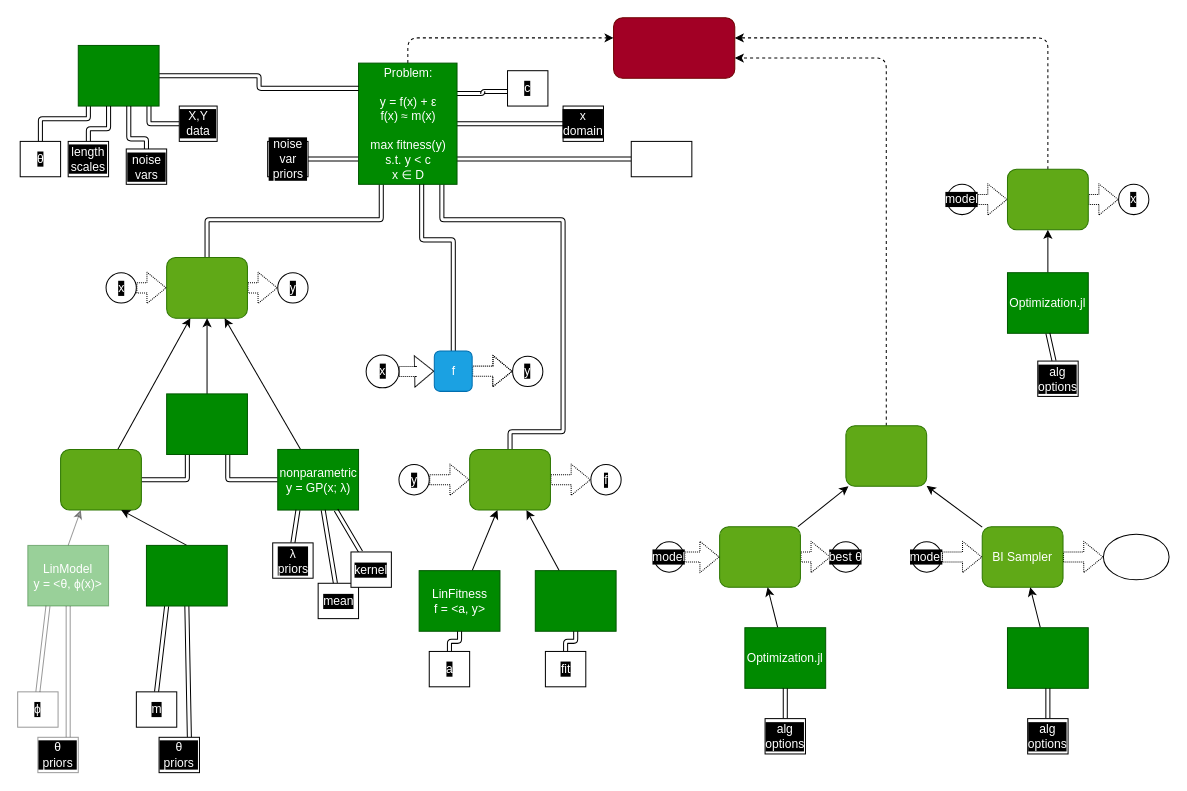
The diagram is 1187 pixels wide and 791 high, and some of its shapes have lost their labels. Here are the shapes that lost their labels. From the top down, the centre of each, then its label:
At (x=674, y=47): "BOSS".
At (x=118, y=75): "data".
At (x=661, y=158): "discrete dims".
At (x=1047, y=199): "EI maximizer".
At (x=206, y=287): "surrogate model".
At (x=206, y=423): "semiparametric".
At (x=886, y=455): "model fitter".
At (x=100, y=479): "parametric y = m(x; θ)".
At (x=509, y=479): "fitness".
At (x=186, y=575): "NonlinModel y = m(x; θ)".
At (x=759, y=556): "MLE".
At (x=1135, y=556): "θ samples".
At (x=575, y=600): "NonlinFitness f = fit(y)".
At (x=1047, y=657): "Turing.jl".
